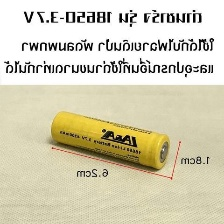battery: (50, 110, 172, 171)
